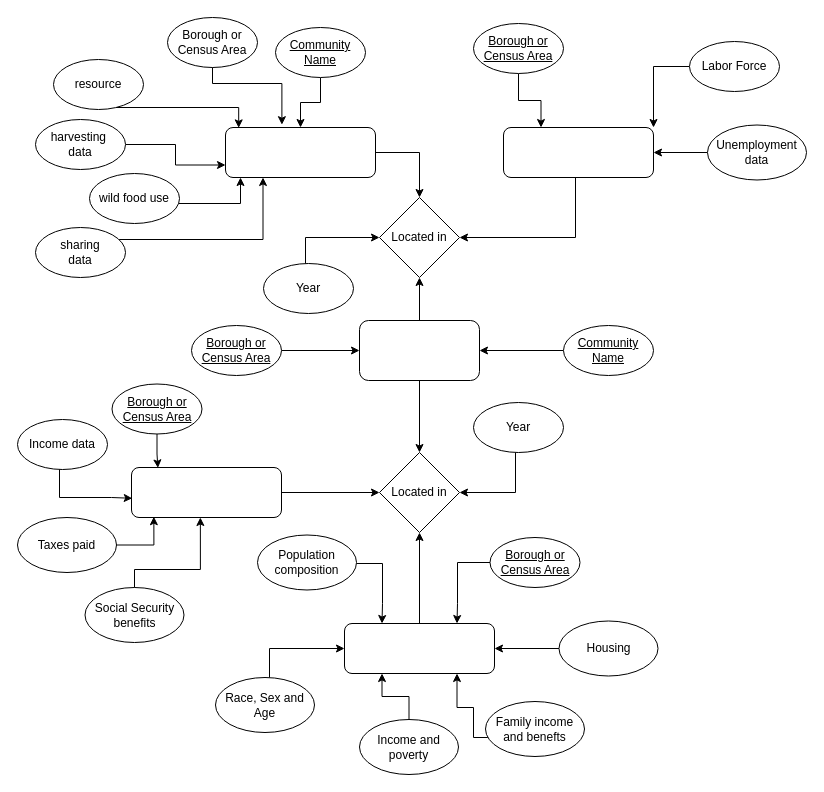
Image size: 824x792. Some labels were removed from this diagram. Here are the shapes that lost their labels. From the top down, the centre of each, then its label:
At (300,152): "Substinence (ADFG)".
At (578,152): "Unemployment (Laborstats)".
At (419,350): "Borough and Census Area".
At (206,492): "Tax and Income Data (IRS aggregate)".
At (419,648): "Population census and composition (ACS aggregate)".
